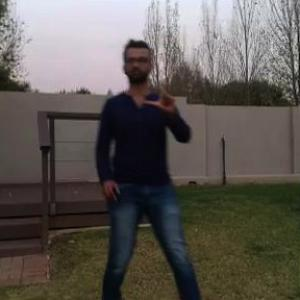land_hand: (144, 76, 178, 114)
